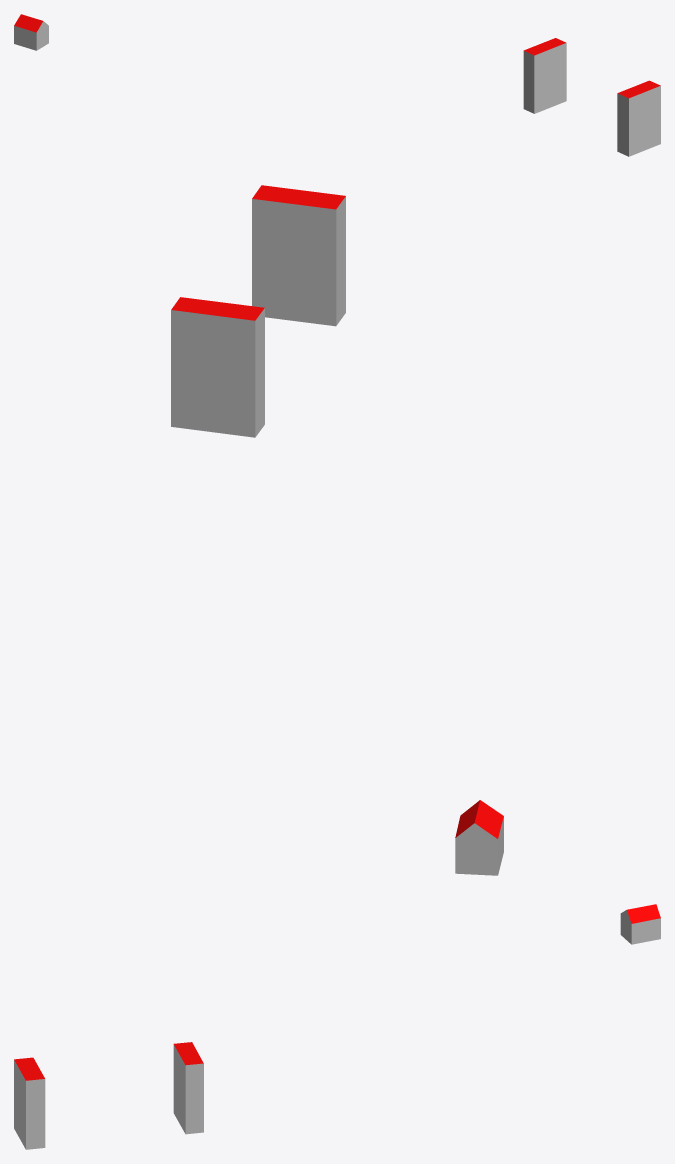
3 renders of one model, top to bottom at view 1: azimuth 30°, elevation 25°; view 2: azimuth 150°, elevation 25°; view 3: azimuth 270°, elevation 25°, orthographic. The views are drawn at different scales.
Bounding box in the file's own units: 79.75 × 11.64 × 98.82.
